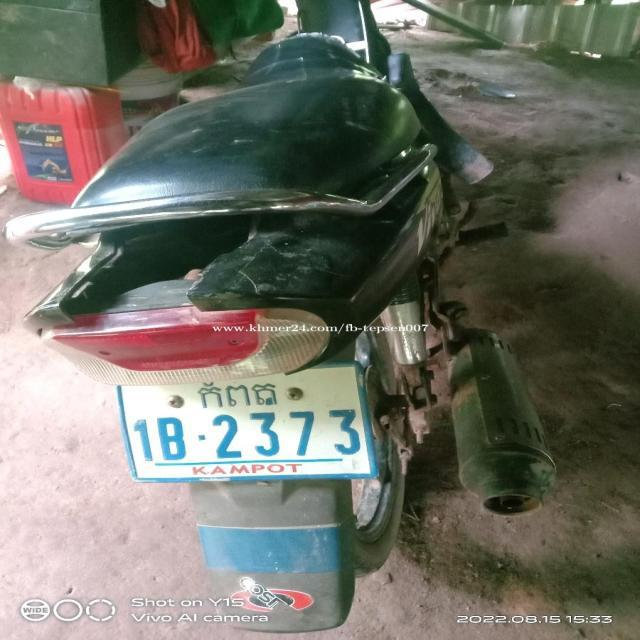Kampot: (197, 382, 277, 408)
